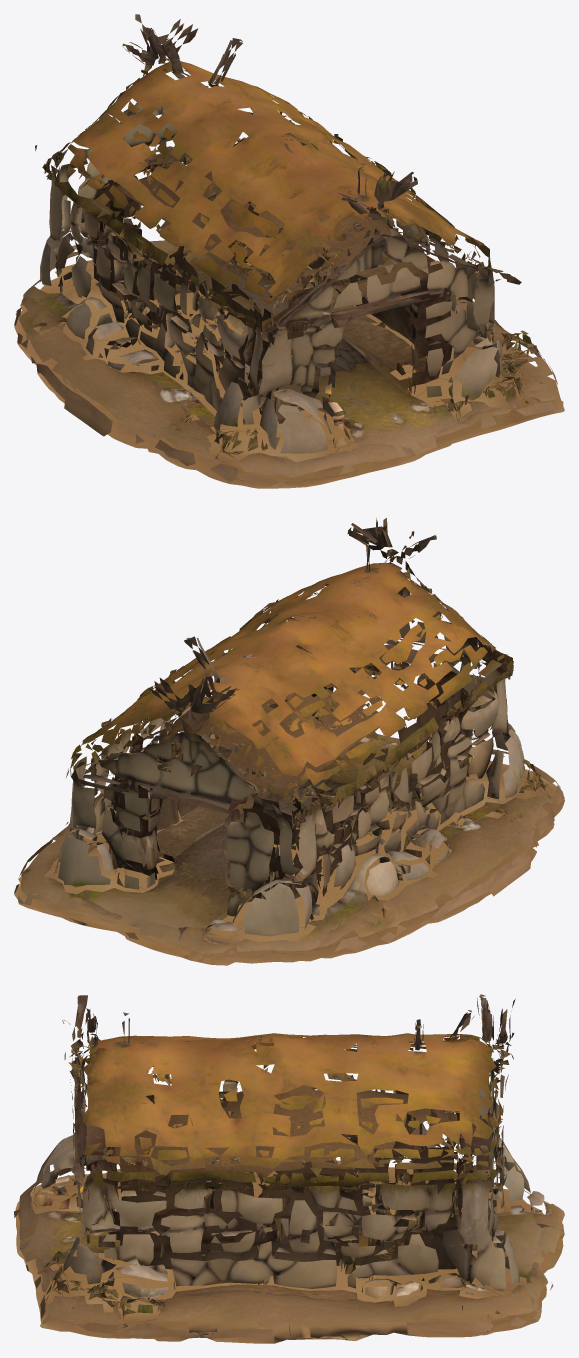
Rendered from steinhaus.glb.
3 renders of one model, top to bottom at view 1: azimuth 30°, elevation 25°; view 2: azimuth 150°, elevation 25°; view 3: azimuth 270°, elevation 25°, orthographic. The views are drawn at different scales.
Size of the model in its own units: 1.59 by 0.9859 by 1.96.
1 material, 1 textured.
